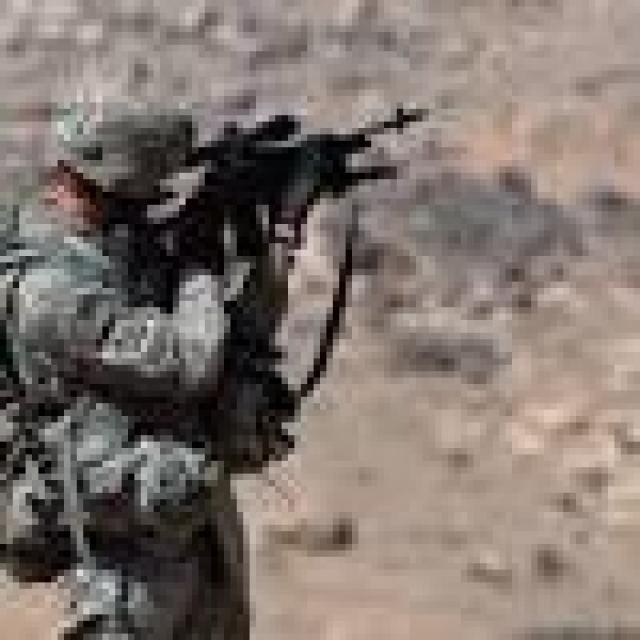Gun: (141, 96, 458, 279)
